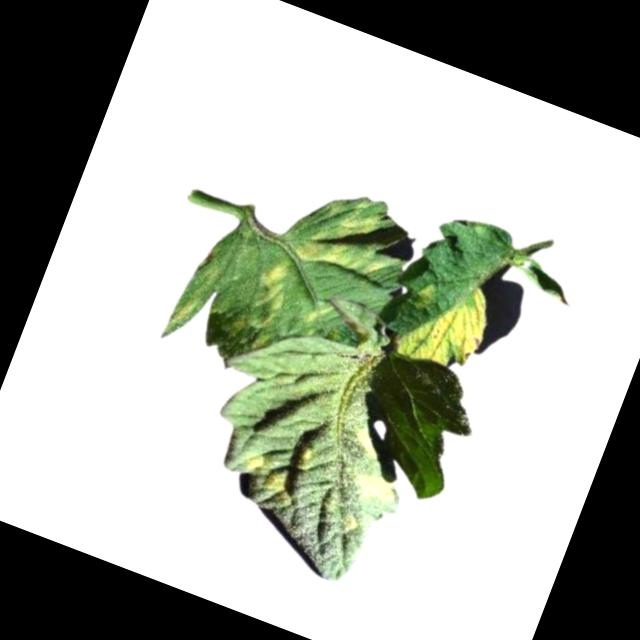Leaf_Mold: (394, 270, 500, 382), (289, 192, 404, 292), (242, 252, 302, 335), (346, 467, 401, 513), (261, 464, 301, 506), (241, 450, 267, 478)
